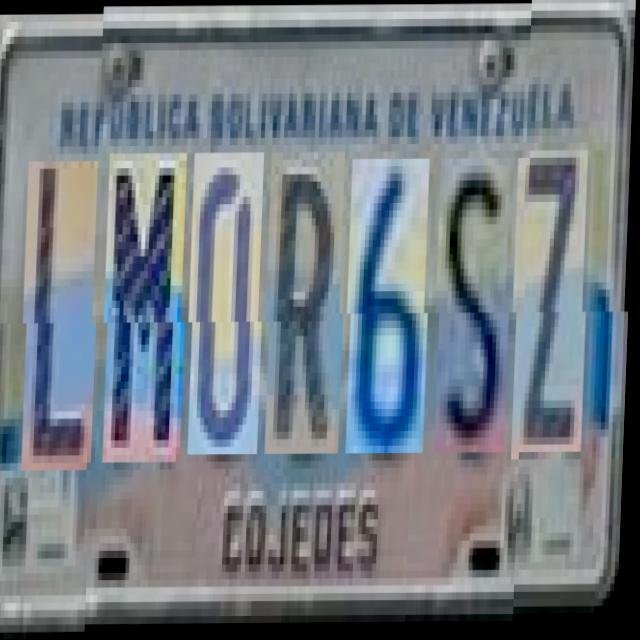0: (191, 153, 269, 455)
6: (349, 159, 435, 454)
L: (26, 154, 104, 463)
M: (106, 154, 192, 462)
R: (268, 153, 350, 454)
S: (438, 158, 516, 454)
Z: (515, 158, 593, 460)
